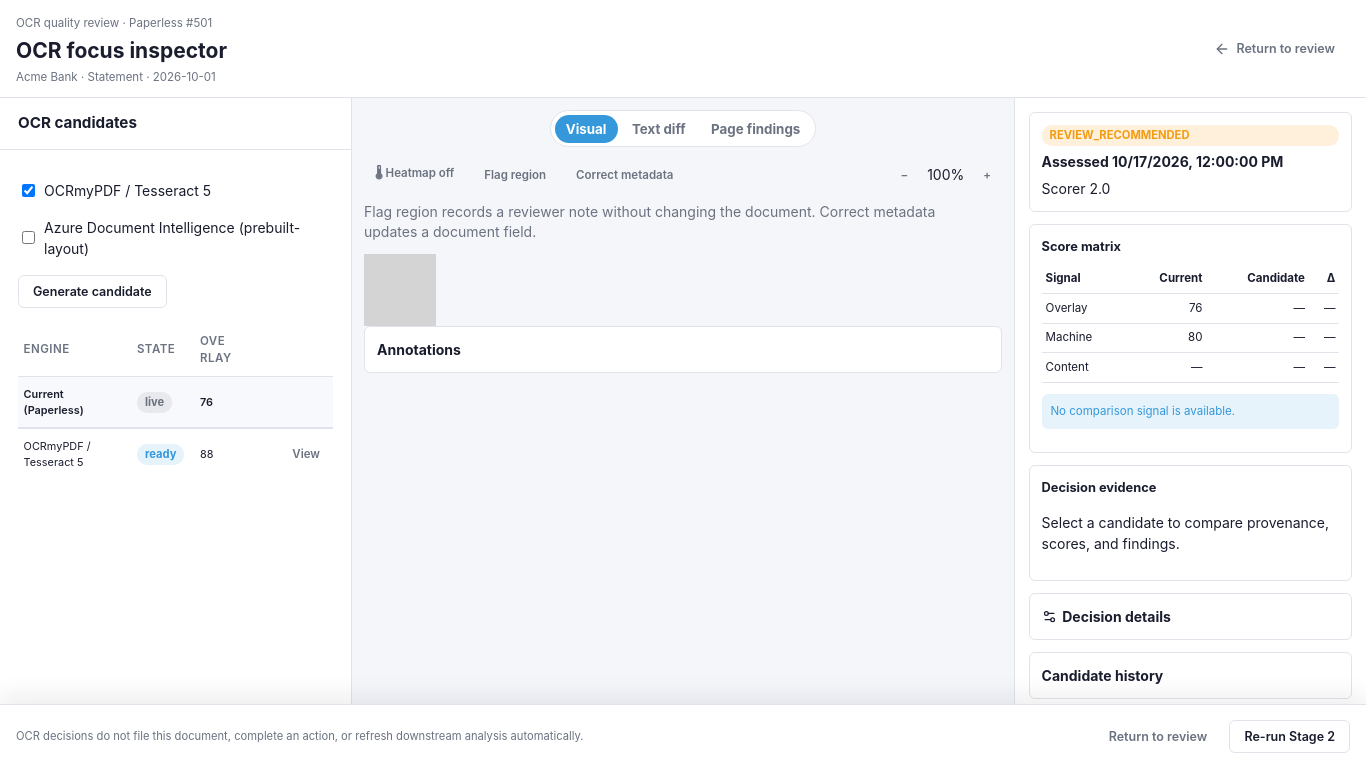
it: OcrFocusInspector › shows synchronized candidate comparison and text diff for a selected ready candidate
Click the button "View" at [306, 454], box [285, 441, 327, 467]
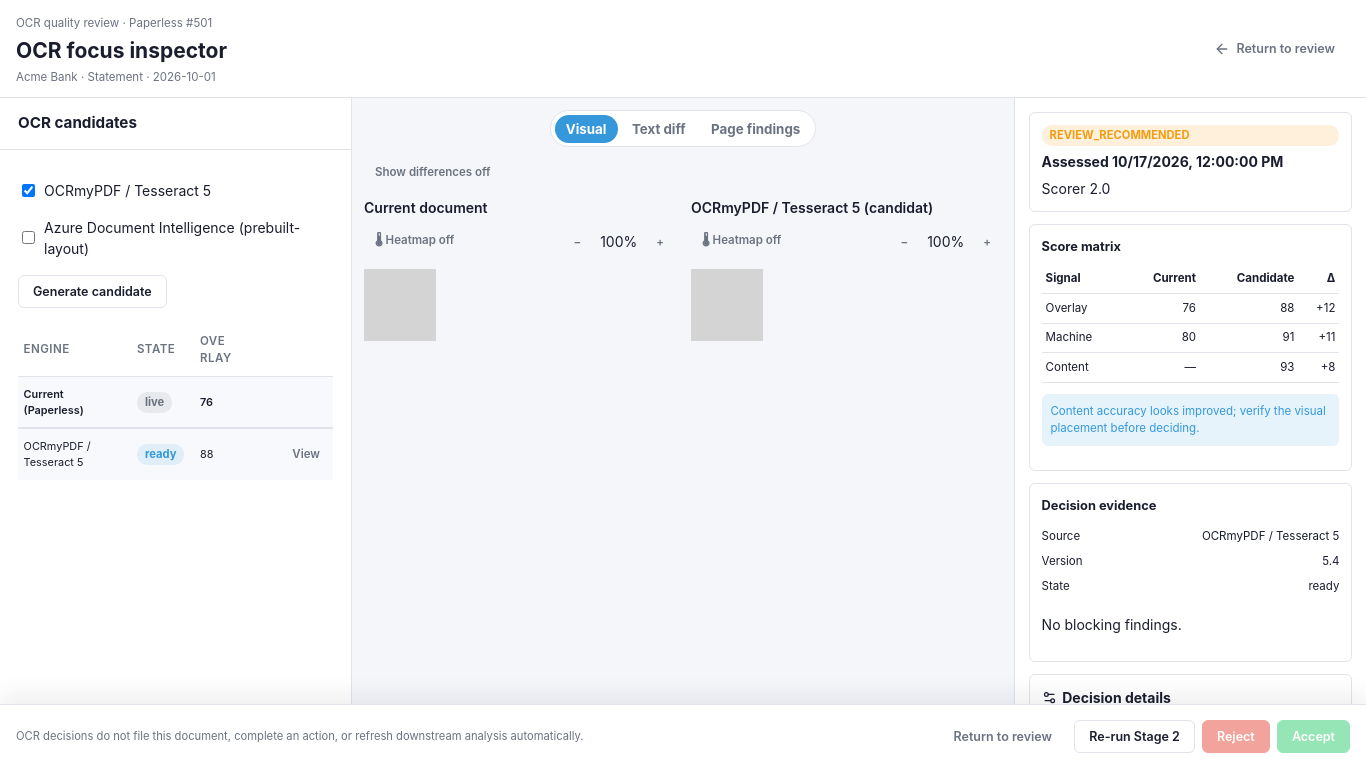
Expected: the text "OCRmyPDF / Tesseract 5" is shown, [18, 180, 211, 201]
Expected: the text "Current document" is shown, [364, 199, 488, 216]
Click the button "Text diff" at [659, 129], box [621, 115, 697, 143]
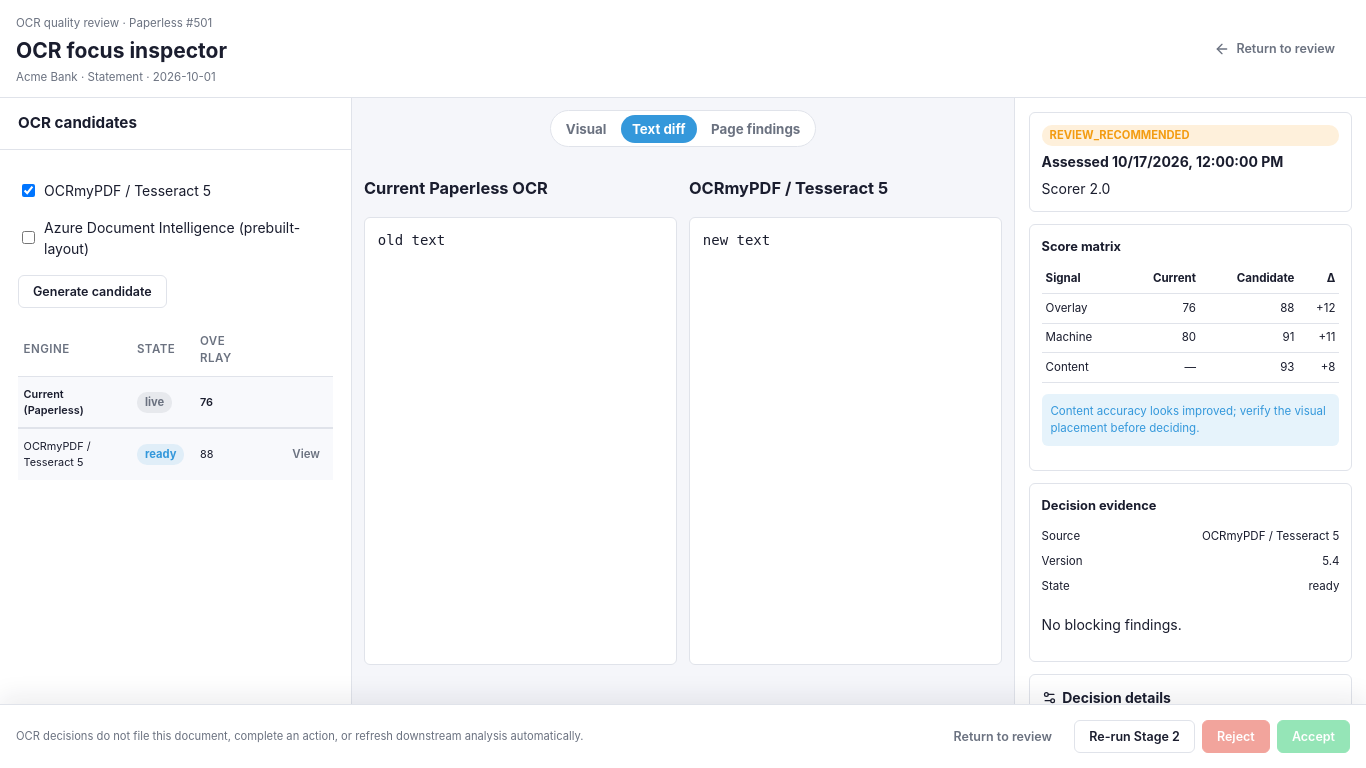
Expected: the text "old text" is shown, [364, 217, 677, 665]
Expected: the text "new text" is shown, [689, 217, 1002, 665]
